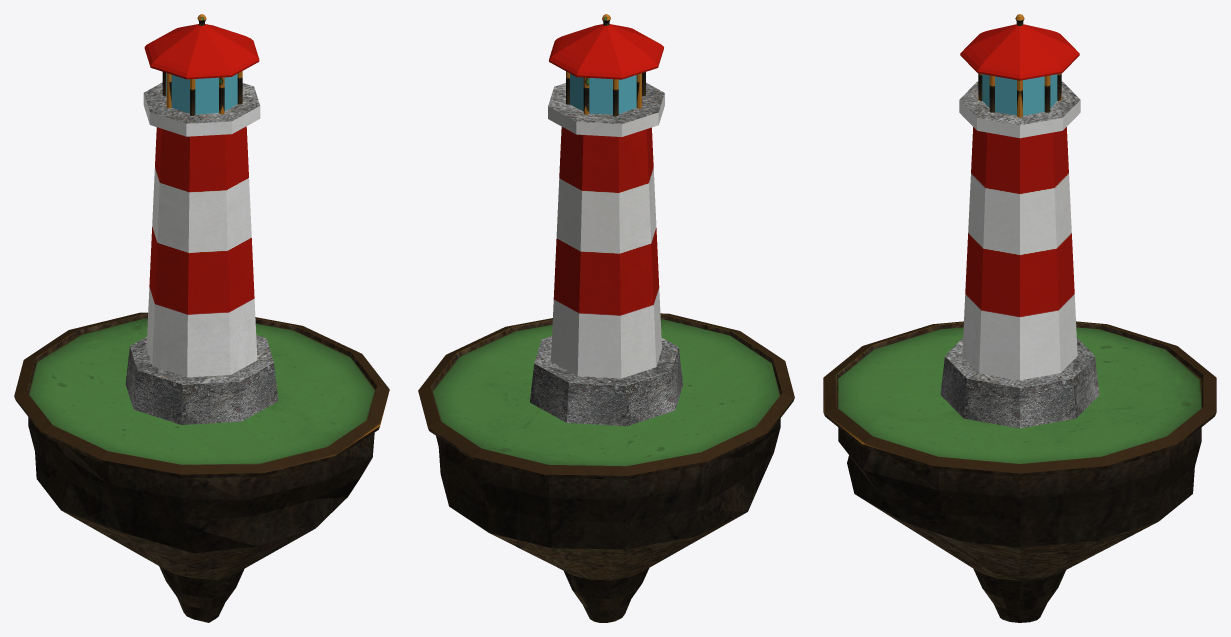
Rendered from lighthouse_2.obj.
3 views of the same model, side by side, from view 1: azimuth 30°, elevation 25°; view 2: azimuth 150°, elevation 25°; view 3: azimuth 270°, elevation 25° (orthographic).
Size of the model in its own units: 1290 by 2313 by 1363.
